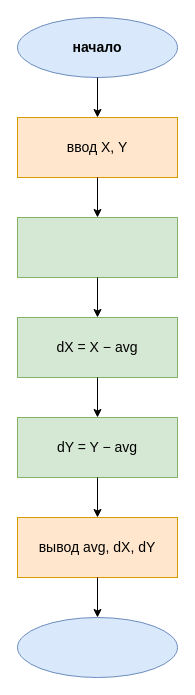
The diagram is 195 pixels wide and 695 high, and some of its shapes have lost their labels. The shapes that lost their labels are listed below. From the top down, each one's centre as x and y in pixels, then its label:
At (97,247): "avg = (X + Y) / 2".
At (97,647): "конец".
